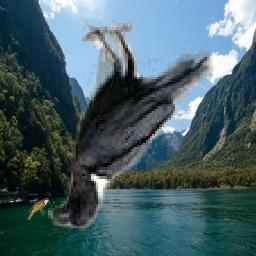Crow: (49, 21, 214, 238)
Cuckoo: (27, 198, 49, 220)
